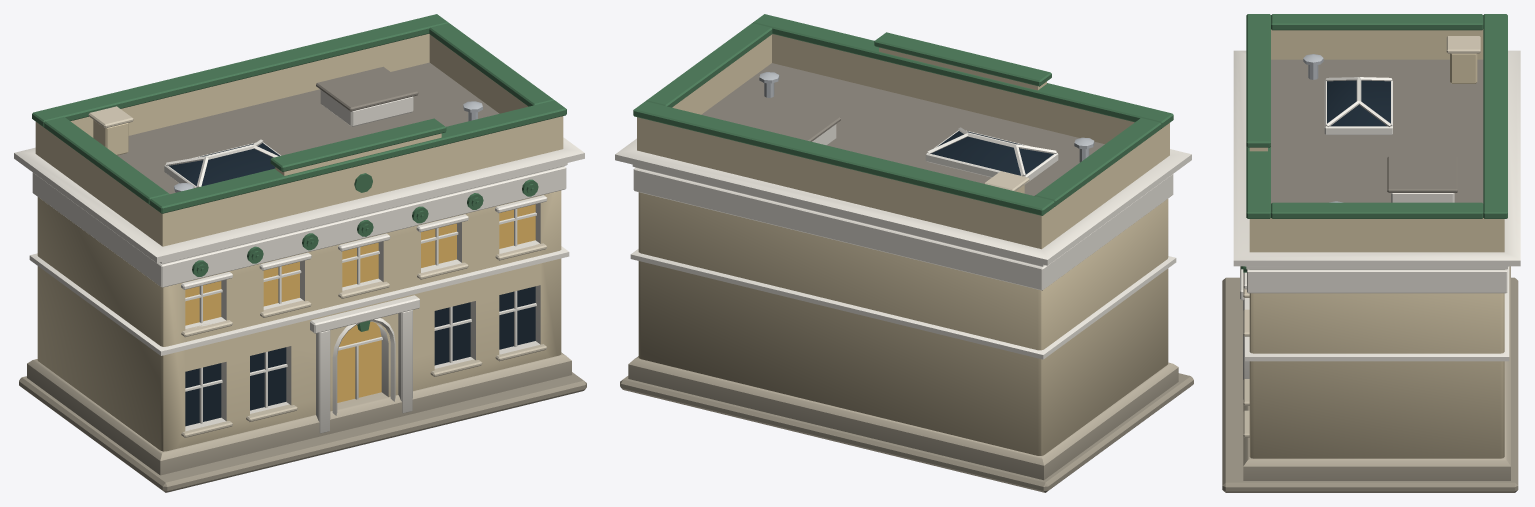
File: bh_superior.glb
3 views of the same model, side by side, from view 1: azimuth 30°, elevation 25°; view 2: azimuth 150°, elevation 25°; view 3: azimuth 270°, elevation 25° (orthographic).
Parts seen in each view (by area): view 1: bh_superior; view 2: bh_superior; view 3: bh_superior.
Part boxes in pixels (x1,y1,x2,y2): bh_superior: (14,14,586,492); bh_superior: (615,14,1193,492); bh_superior: (1222,14,1520,492).
Size of the model in its own units: 0.0218 by 0.014 by 0.0131.
